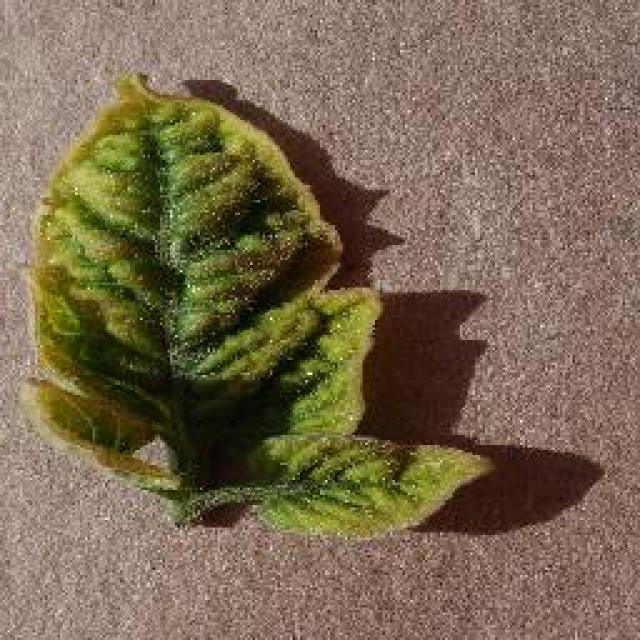Tomato yellow virus leaf: (24, 77, 498, 536)
